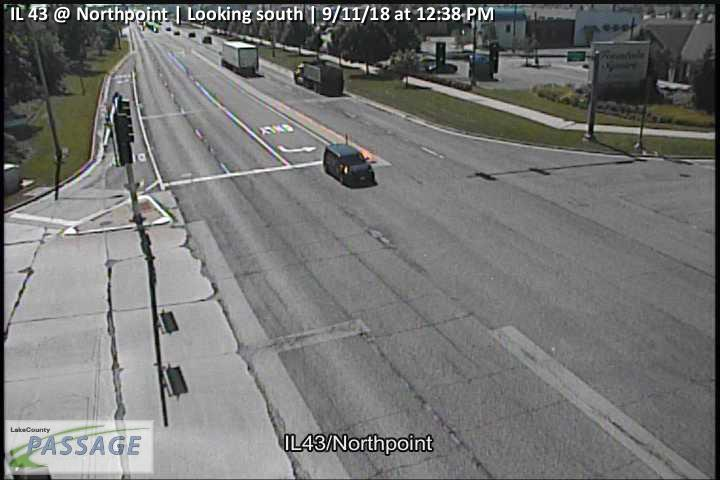SUV: (323, 145, 376, 188)
Truck: (293, 60, 344, 98), (220, 41, 259, 73)
